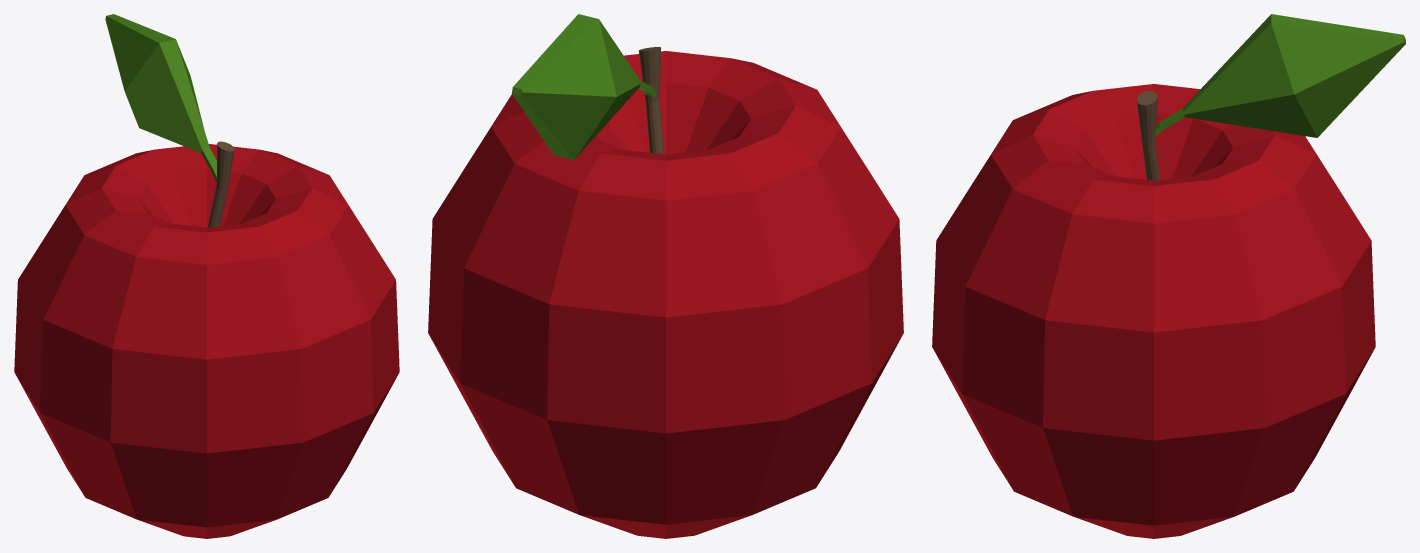
Rendered from Apple.fbx.
3 views of the same model, side by side, from view 1: azimuth 30°, elevation 25°; view 2: azimuth 150°, elevation 25°; view 3: azimuth 270°, elevation 25° (orthographic). The views are drawn at different scales.
Parts seen in each view (by area): view 1: Apple; view 2: Apple; view 3: Apple.
Boxes of the visible parts, bbox=[...] form: Apple: bbox=[14, 14, 399, 538]; Apple: bbox=[428, 14, 903, 538]; Apple: bbox=[932, 14, 1405, 538].
Size of the model in its own units: 7.01 by 8.79 by 7.49.
